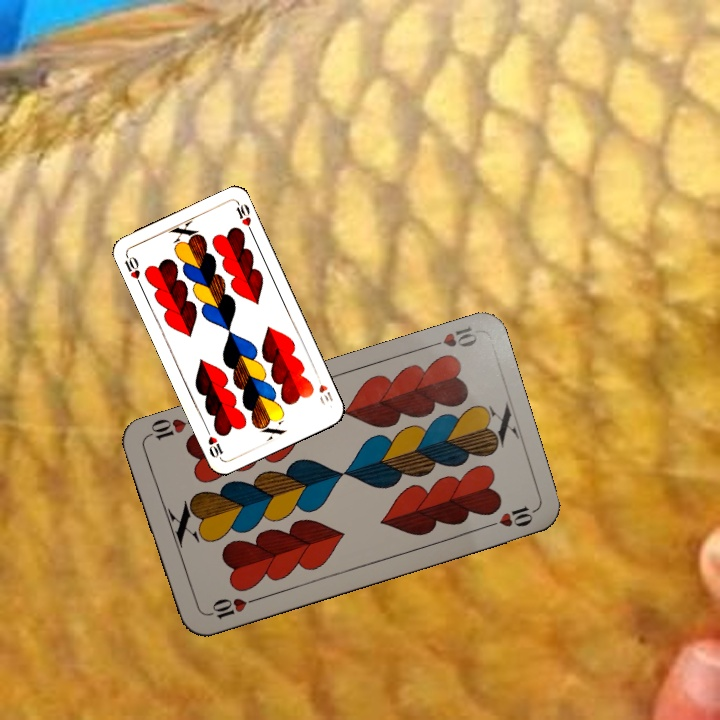H10: (422, 322, 480, 351), (201, 594, 259, 622), (120, 251, 144, 289), (312, 371, 335, 408)
